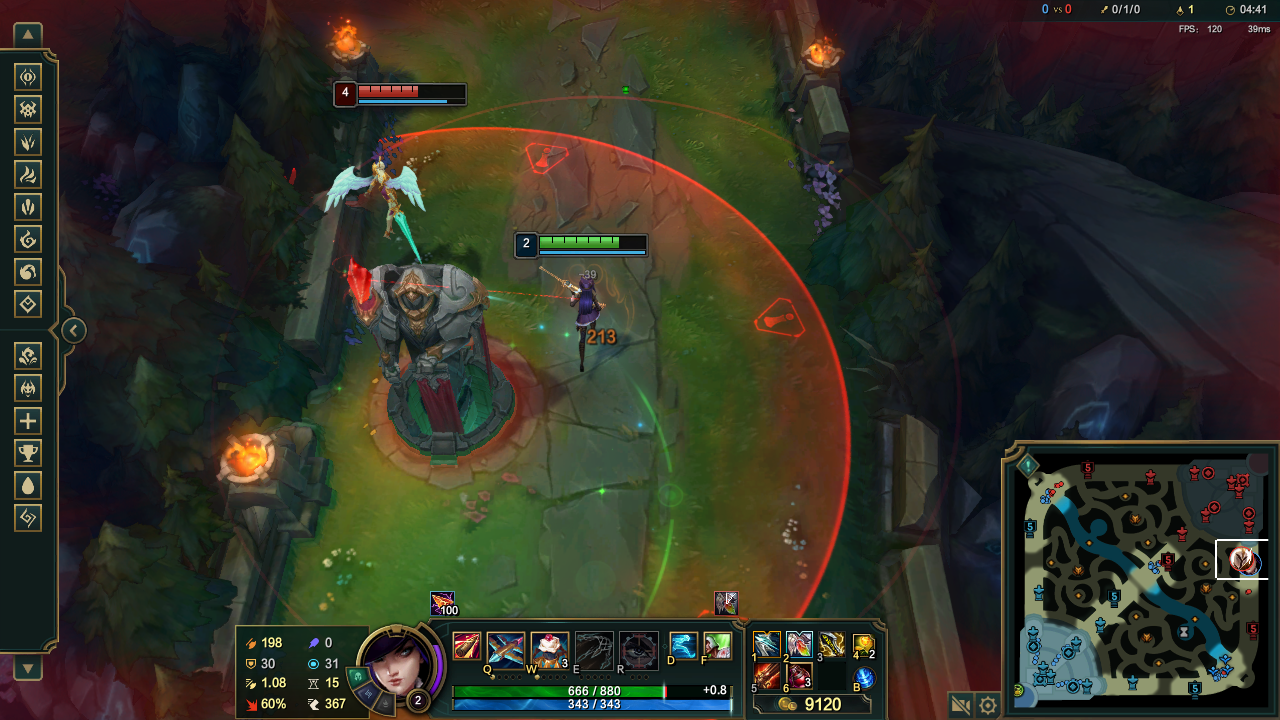DFFYT: (336, 257, 530, 471)
DFYX: (356, 84, 466, 99)
